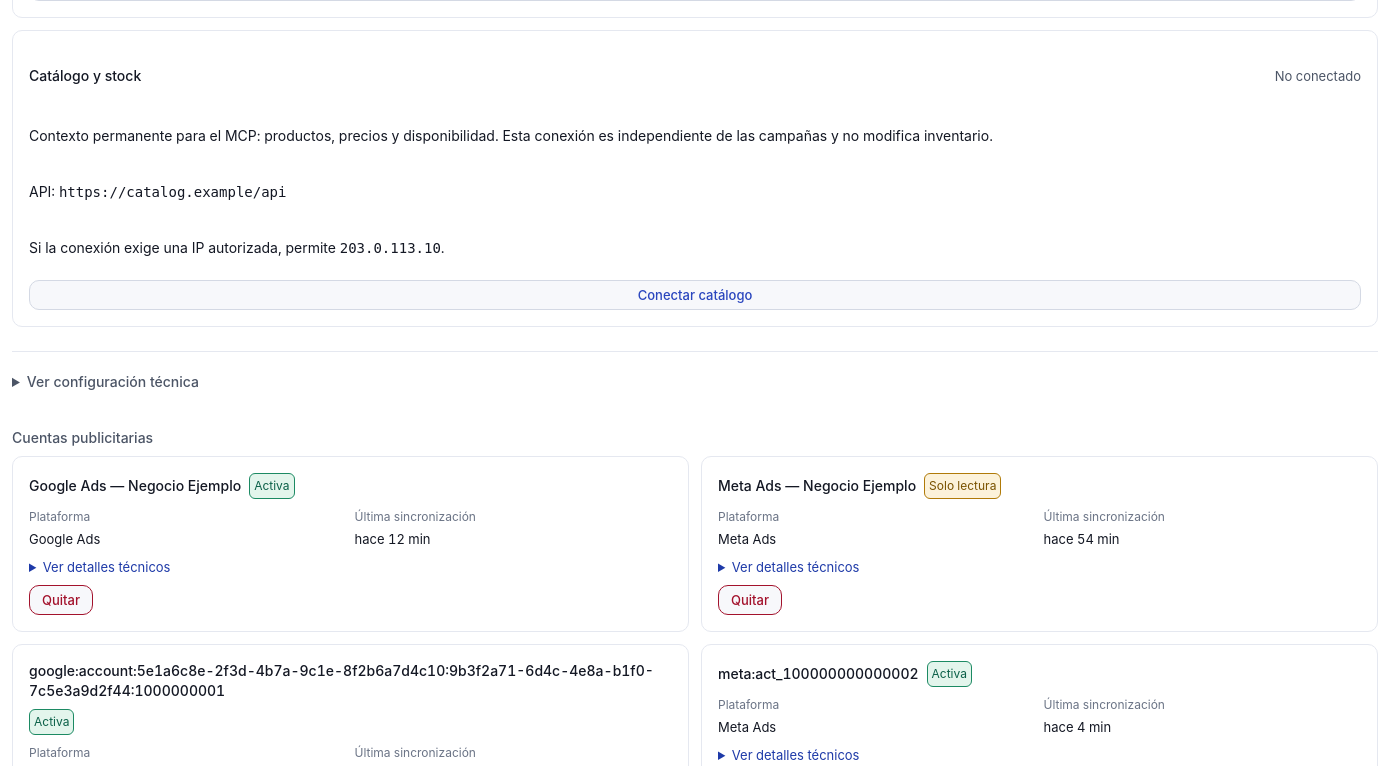
ConexionesPage › mantiene los cuatro pasos técnicos reales dentro de Administración, después de Conectar
The image size is (1378, 766).
(page scrolled)
Check: the text "Cliente OAuth de Google Ads" is not shown
What coordinates should you click on to do the following:
click the heading "Ver configuración técnica"
I would click on:
 (113, 382)
Its box is [27,373,199,390].
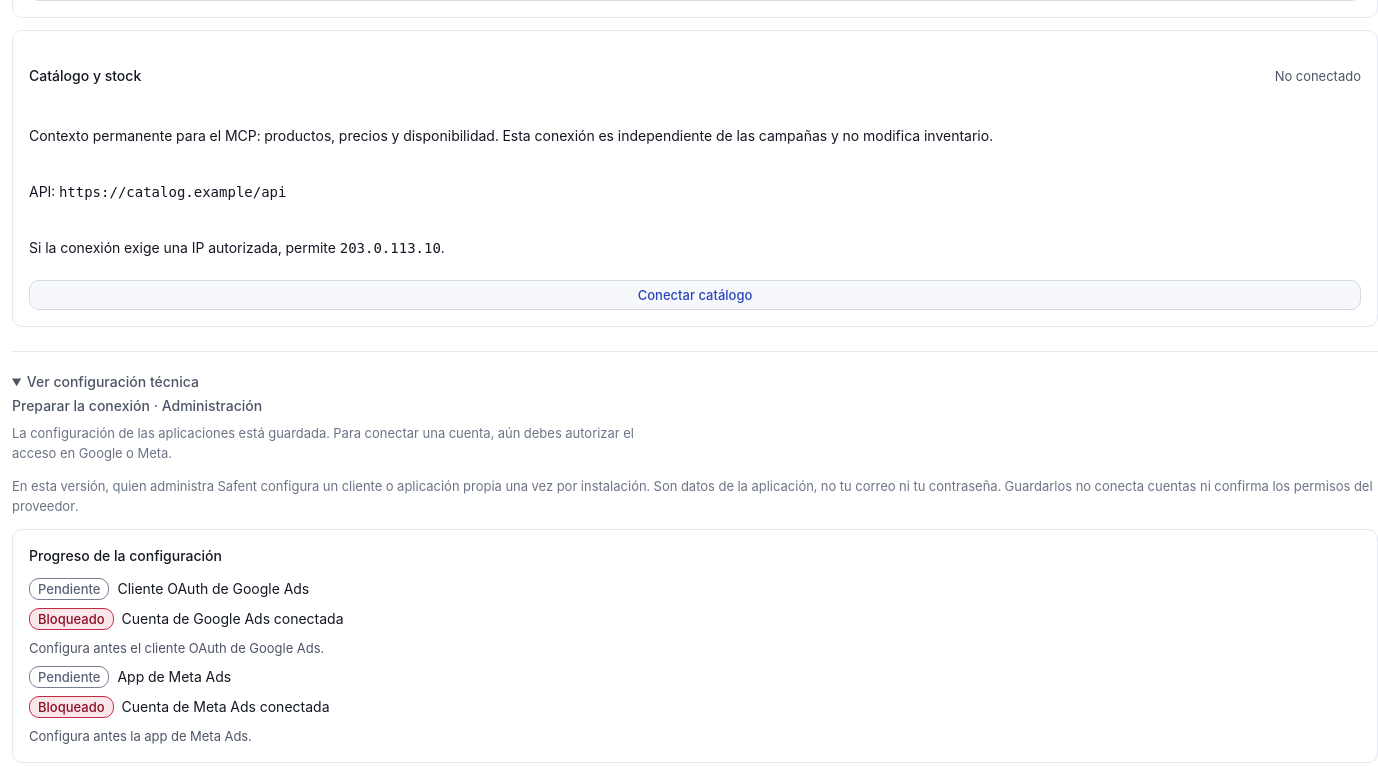
Check: the text "Cliente OAuth de Google Ads" is shown, box [117,579,309,599]
Check: the text "Pendiente" is shown 2 times, box [29,578,109,600]; [29,666,109,688]
Check: the text "Bloqueado" is shown 2 times, box [29,608,114,630]; [29,696,114,718]
